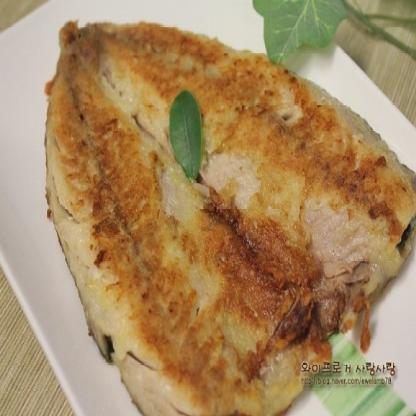Peixe: (41, 7, 397, 407)
